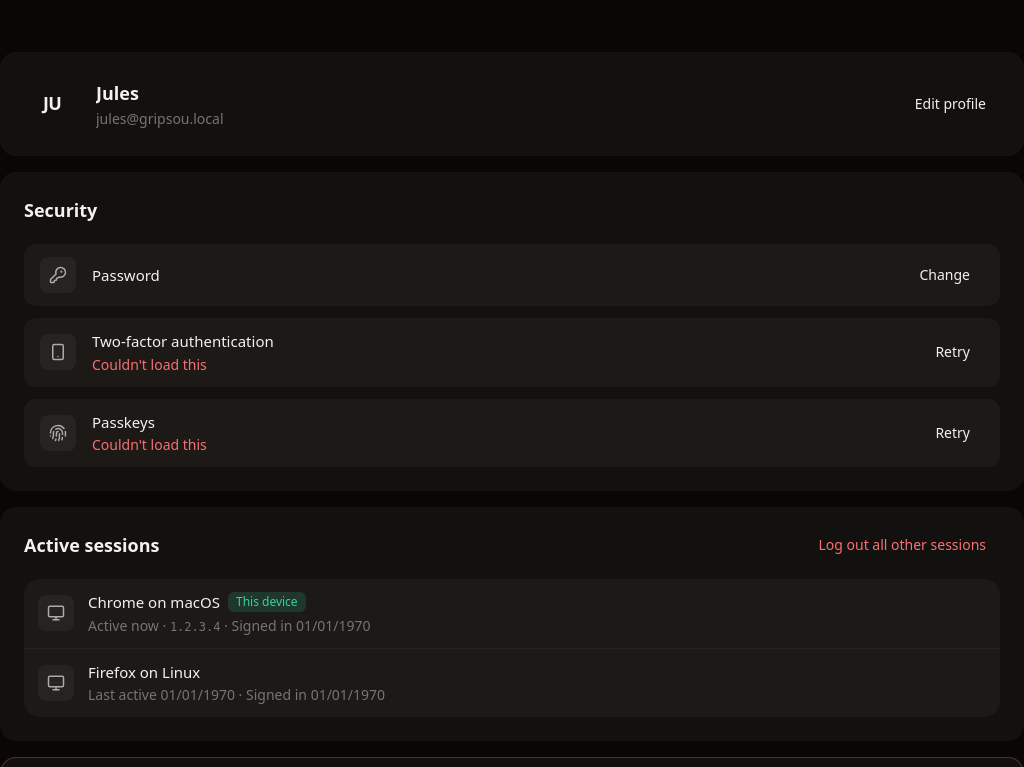
Scenario: SettingsAccount when two-factor's status can't be loaded › says so on both rows, offers a retry, and shows the switch once it loads
Expected: the text "Couldn't load this" is shown 2 times, [92,354,207,374]; [92,435,207,454]
Step 1. Click the button "Retry" in the row of "Two-factor authentication" → click(953, 352), box [921,333,984,371]
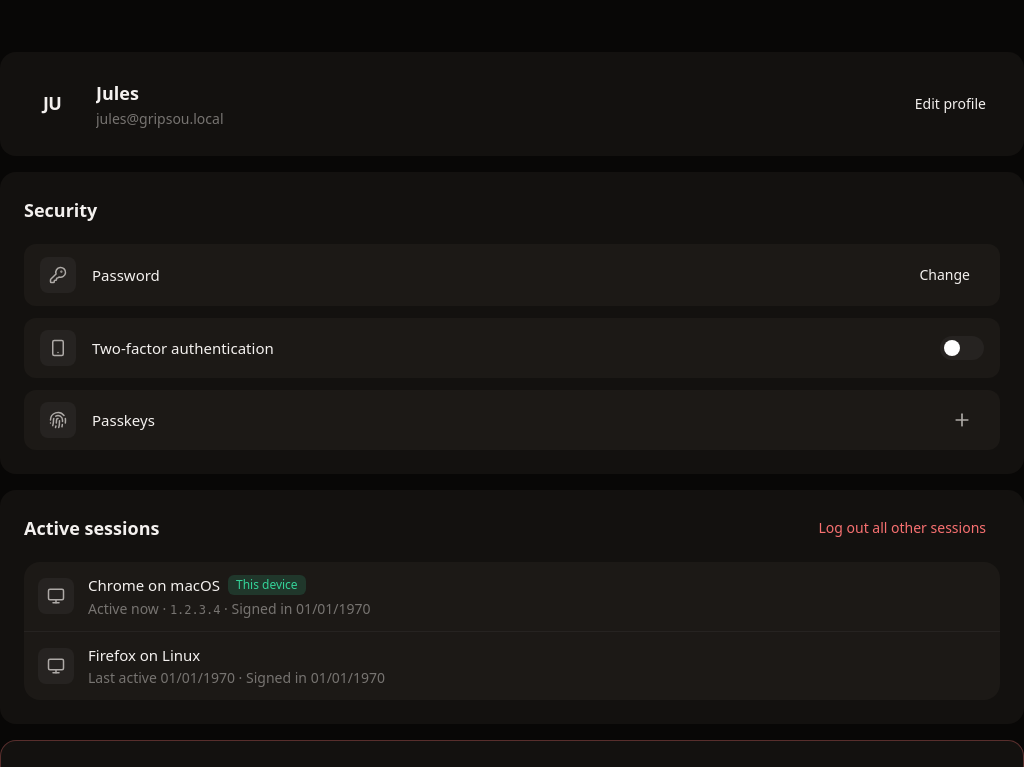
Expected: the text "Couldn't load this" is gone
